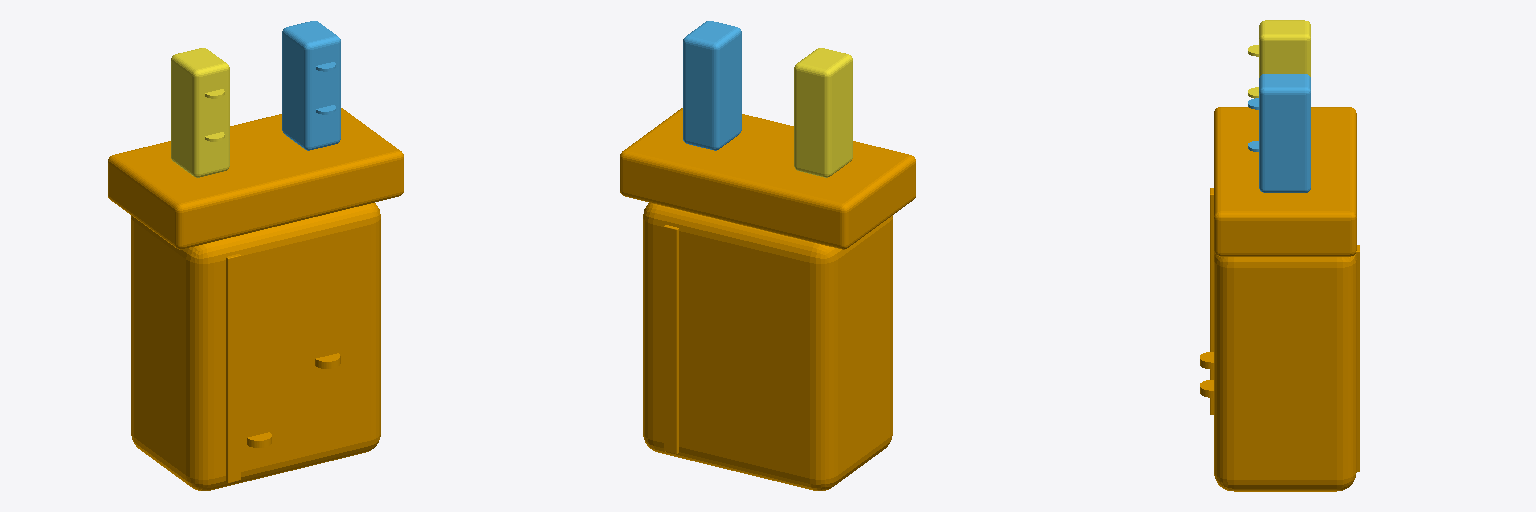
URDF robot description (smc_mhz2_20d):
<?xml version="1.0"?>
<robot name="smc_mhz2_20d">
<link name="mount"><visual ><geometry ><mesh filename="../meshes/mount.obj"/></geometry></visual><collision ><origin xyz="0 0 0.0264" rpy="0 0 0"/><geometry ><box size="0.042 0.0276 0.0528"/></geometry></collision><collision ><origin xyz="0 0 0.05755" rpy="0 0 0"/><geometry ><box size="0.05 0.0276 0.0095"/></geometry></collision></link>
<link name="left_jaw"><visual ><geometry ><mesh filename="../meshes/left_jaw.obj"/></geometry></visual><collision ><origin xyz="0.01215 0 0.07355" rpy="0 0 0"/><geometry ><box size="0.008 0.01 0.0225"/></geometry></collision></link>
<link name="left_contact"></link>
<link name="right_jaw"><visual ><geometry ><mesh filename="../meshes/right_jaw.obj"/></geometry></visual><collision ><origin xyz="-0.01215 0 0.07355" rpy="0 0 0"/><geometry ><box size="0.008 0.01 0.0225"/></geometry></collision></link>
<link name="right_contact"></link>
<link name="tcp"></link>
<joint name="finger_joint" type="prismatic"><parent link="mount"/><child link="left_jaw"/><origin xyz="0 0 0" rpy="0 0 0"/><axis xyz="1 0 0"/><limit lower="0" upper="0.005" velocity="0.03" effort="42"/></joint>
<joint name="left_contact_joint" type="fixed"><parent link="left_jaw"/><child link="left_contact"/><origin xyz="0.00815 0 0.0748" rpy="0 0 0"/></joint>
<joint name="finger_mirror_joint" type="prismatic"><parent link="mount"/><child link="right_jaw"/><origin xyz="0 0 0" rpy="0 0 0"/><axis xyz="-1 0 0"/><limit lower="0" upper="0.005" velocity="0.03" effort="42"/><mimic joint="finger_joint" multiplier="1" offset="0"/></joint>
<joint name="right_contact_joint" type="fixed"><parent link="right_jaw"/><child link="right_contact"/><origin xyz="-0.00815 0 0.0748" rpy="0 0 0"/></joint>
<joint name="tcp_joint" type="fixed"><parent link="mount"/><child link="tcp"/><origin xyz="0 0 0.0848" rpy="0 0 0"/></joint>
</robot>

--- Render facts (derived) ---
Views: 3 orthographic renders of the robot side by side, from view 1: azimuth 30°, elevation 25°; view 2: azimuth 150°, elevation 25°; view 3: azimuth 270°, elevation 25°.
Robot: smc_mhz2_20d — 6 links, 5 joints (2 prismatic, 3 fixed); root link mount; default pose: every joint at zero.
Links seen in each view (by area): view 1: mount, left_jaw, right_jaw; view 2: mount, left_jaw, right_jaw; view 3: mount, left_jaw, right_jaw.
Link boxes in pixels (box(x1,y1,x2,y2)): mount: box(108, 108, 403, 490); left_jaw: box(282, 21, 340, 150); right_jaw: box(171, 48, 229, 177); mount: box(620, 108, 915, 490); left_jaw: box(683, 21, 741, 150); right_jaw: box(794, 48, 852, 177); mount: box(1200, 107, 1359, 491); left_jaw: box(1248, 74, 1310, 192); right_jaw: box(1248, 20, 1310, 98).
Bounding box of the posed robot: 0.05 × 0.031 × 0.0848 m (x, y, z).
3 mesh visuals loaded from 3 distinct referenced files (3 OBJ).
